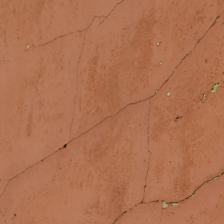Crack: (72, 7, 150, 118), (47, 0, 147, 83), (133, 25, 224, 78), (201, 40, 224, 147)
